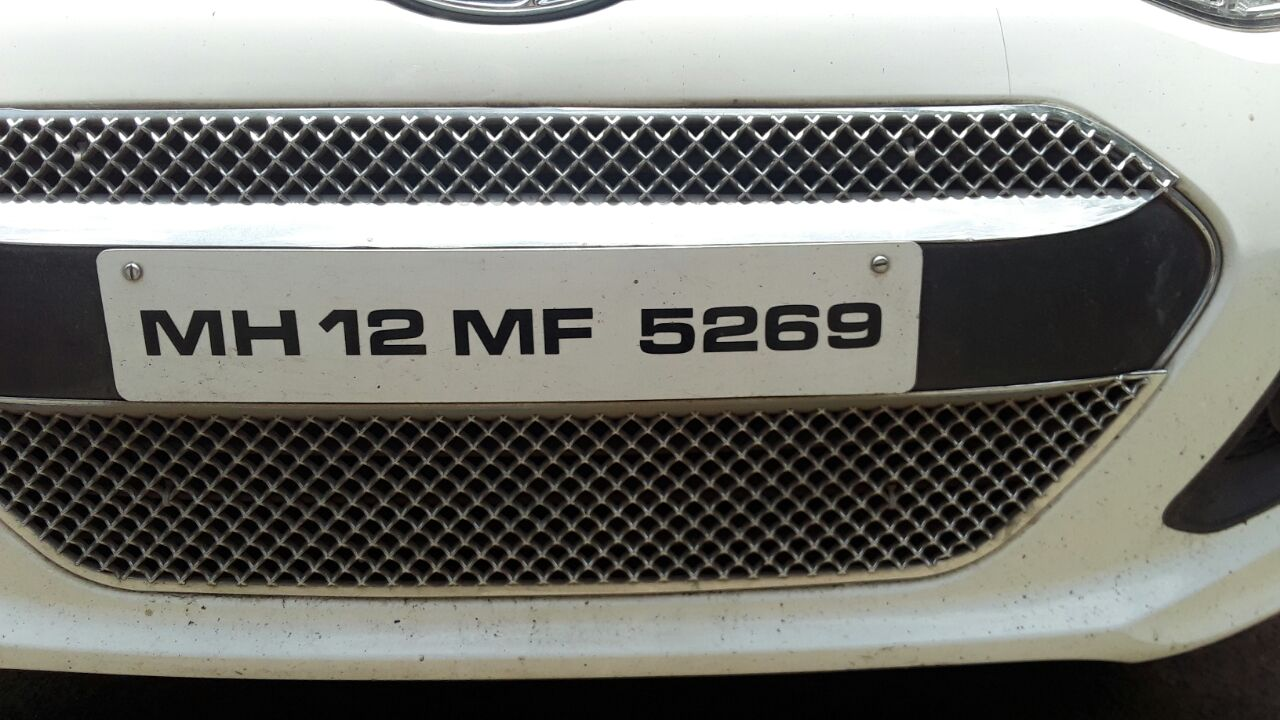licenseplate: (92, 242, 927, 401)
